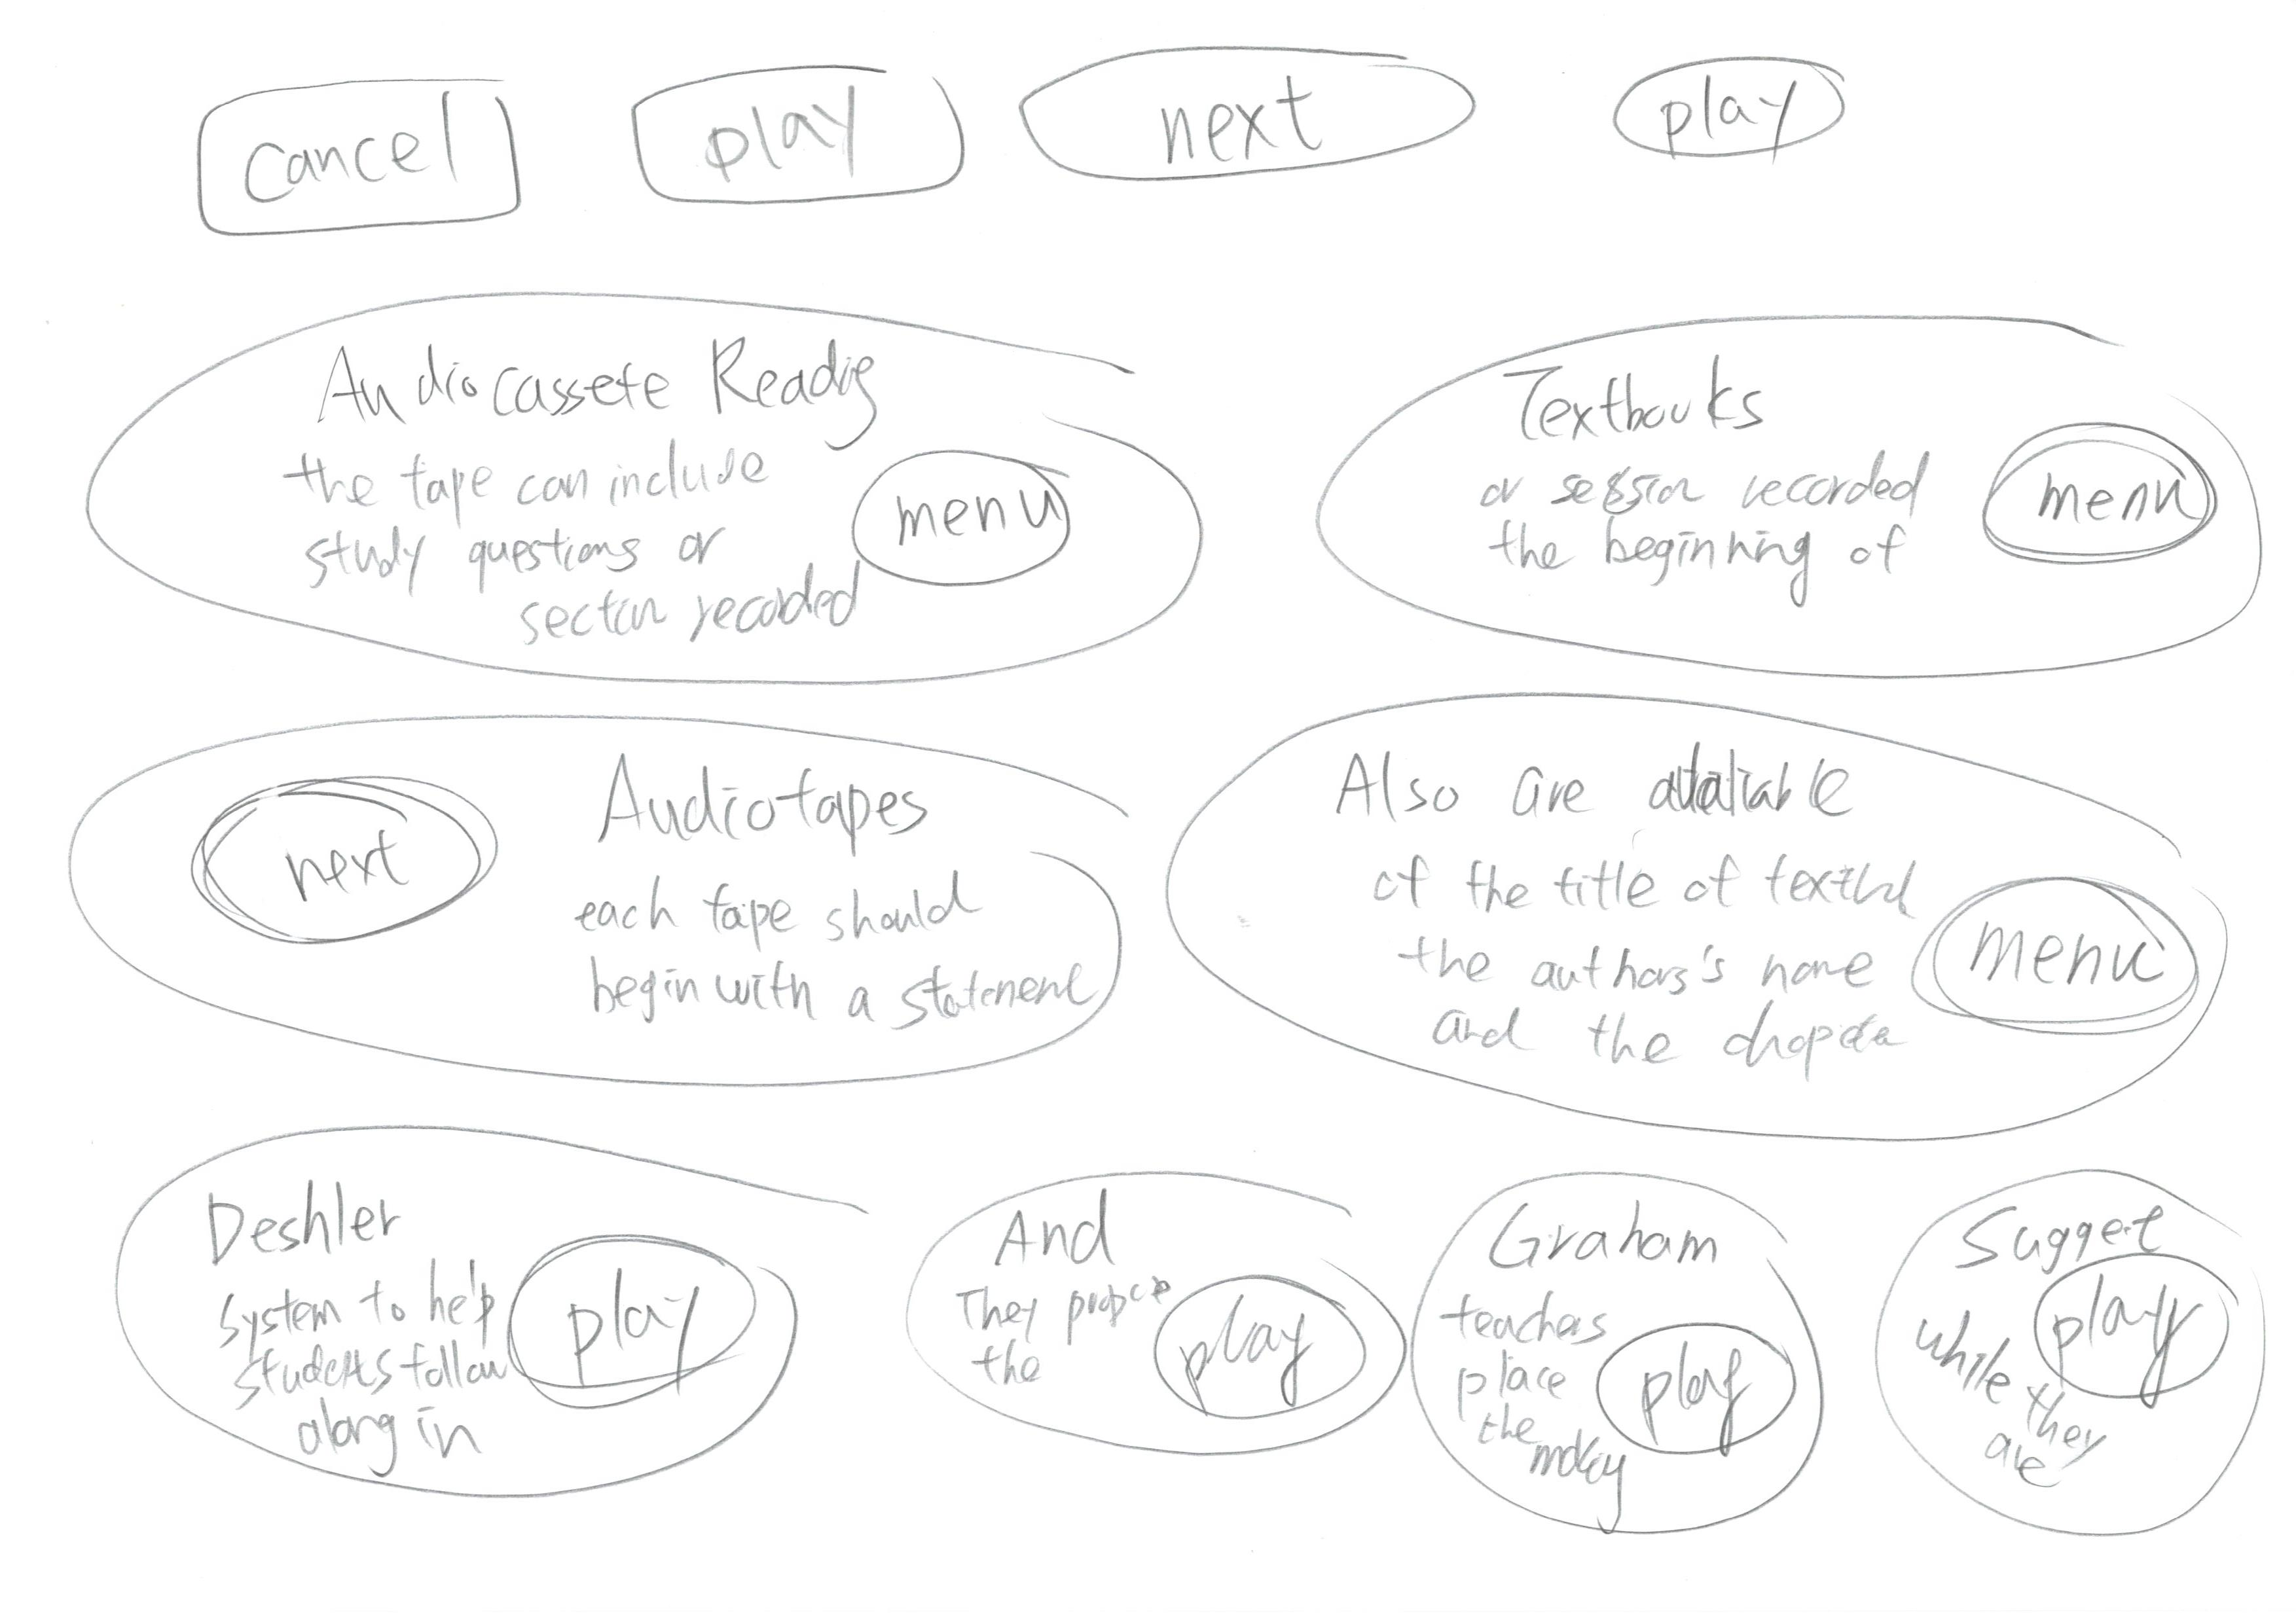cancel: (162, 39, 547, 253)
double: (42, 236, 1248, 691), (23, 684, 1159, 1144), (1160, 701, 2296, 1160), (1285, 246, 2296, 703)
menu: (1950, 383, 2256, 608), (1915, 852, 2247, 1053), (849, 427, 1099, 605)
next: (985, 19, 1515, 223), (158, 761, 517, 977)
play: (591, 26, 992, 239), (489, 1214, 800, 1432), (1141, 1237, 1387, 1443), (1579, 44, 1897, 197), (2018, 1255, 2259, 1413), (1593, 1301, 1813, 1464)
quadruple: (60, 1081, 876, 1564), (863, 1084, 1417, 1571), (1399, 1120, 1860, 1582), (1835, 1144, 2296, 1606)
row: (46, 243, 2296, 736), (46, 673, 2296, 1167), (46, 1130, 2296, 1624), (46, 5, 2296, 236)
small-title: (313, 336, 876, 448), (1338, 721, 1867, 833), (585, 736, 962, 858), (1501, 346, 1793, 438), (1508, 1186, 1740, 1281), (206, 1179, 425, 1250), (1951, 1204, 2169, 1262), (1000, 1209, 1118, 1262)
text: (1359, 840, 1902, 1098), (290, 446, 849, 627), (573, 859, 1099, 1032), (1477, 453, 1922, 606), (223, 1269, 515, 1482), (1438, 1285, 1624, 1524), (960, 1258, 1171, 1401), (1922, 1301, 2022, 1492), (1971, 1390, 2110, 1494)
